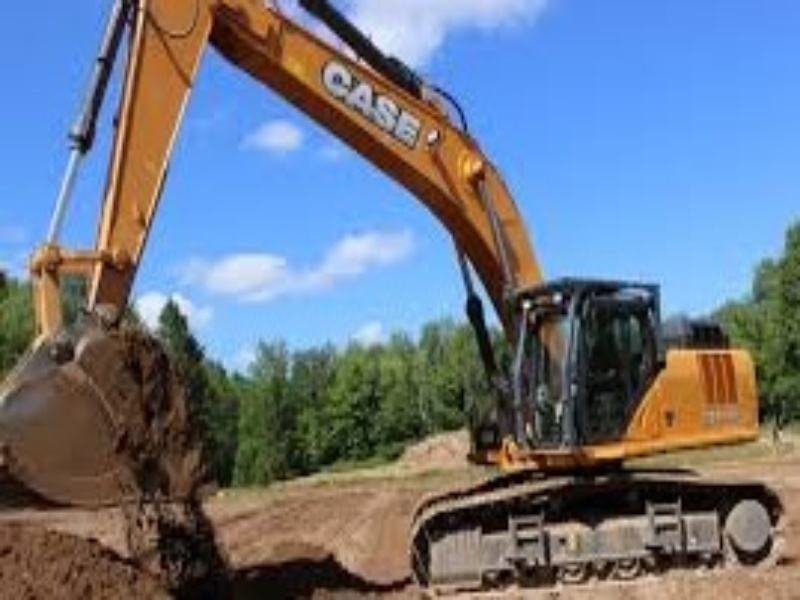wajueji: (356, 228, 786, 587)
